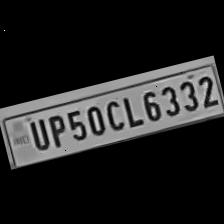0: (80, 99, 108, 138)
2: (192, 70, 219, 110)
3: (156, 80, 182, 118), (174, 76, 200, 114)
5: (61, 105, 88, 144)
6: (136, 85, 164, 124)
C: (99, 94, 126, 134)
L: (117, 90, 143, 129)
P: (43, 109, 70, 149)
U: (22, 115, 52, 153)
